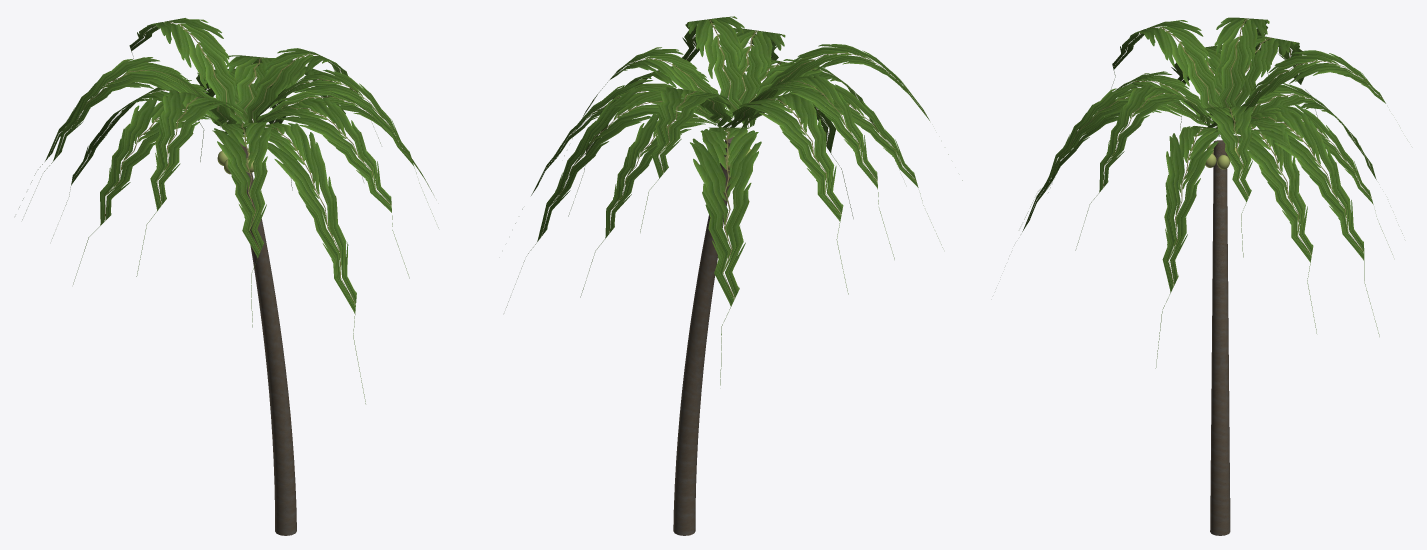
Rendered from kelapa_b.glb.
3 views of the same model, side by side, from view 1: azimuth 30°, elevation 25°; view 2: azimuth 150°, elevation 25°; view 3: azimuth 270°, elevation 25° (orthographic). The views are drawn at different scales.
Visible parts, largest first — view 1: kelapa_b_daun_kelapa, kelapa_b_batang_kelapa; view 2: kelapa_b_daun_kelapa, kelapa_b_batang_kelapa; view 3: kelapa_b_daun_kelapa, kelapa_b_batang_kelapa.
Boxes of the visible parts, x1,y1,x2,y2 form: kelapa_b_daun_kelapa: (19, 18, 438, 403); kelapa_b_batang_kelapa: (240, 143, 296, 535); kelapa_b_daun_kelapa: (506, 16, 962, 385); kelapa_b_batang_kelapa: (673, 137, 733, 535); kelapa_b_daun_kelapa: (1022, 17, 1402, 368); kelapa_b_batang_kelapa: (1210, 140, 1230, 535).
Bounding box in the file's own units: 8.12 × 9.76 × 8.3.
Materials: 3 (2 with a texture image).
